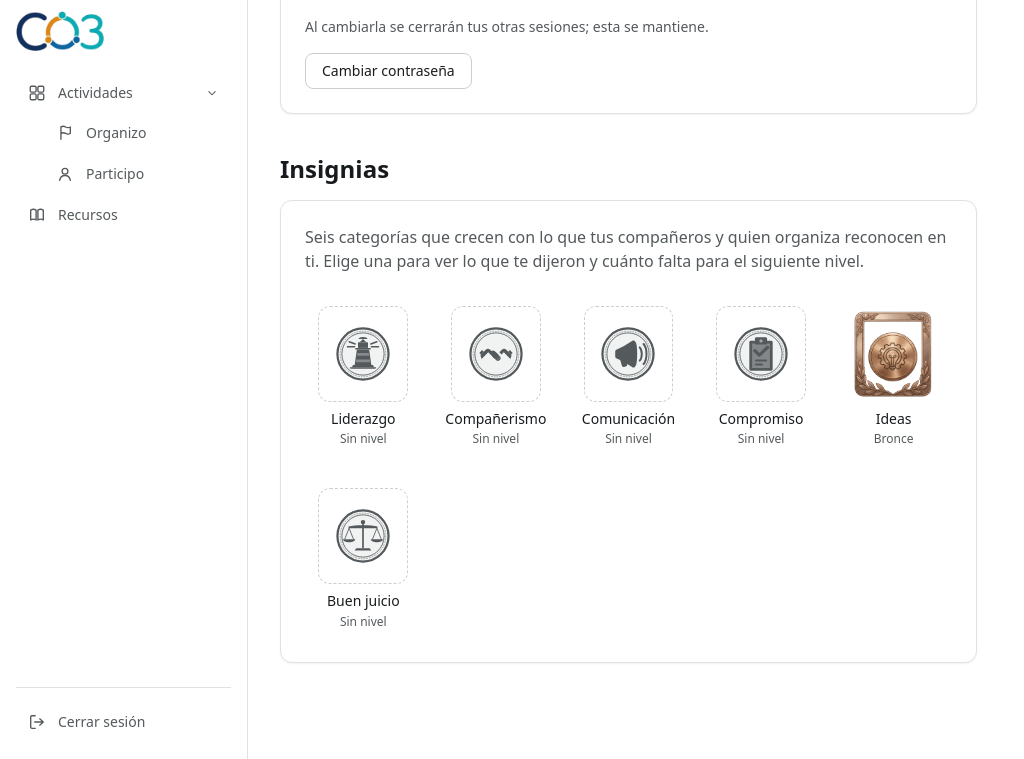
Test: PantallaPerfil › una insignia sin reconocimientos explica cómo se gana
(page scrolled)
Click the button with aria-label "Liderazgo, sin nivel todavía". click: (363, 376)
box: [310, 296, 417, 455]
(page scrolled)
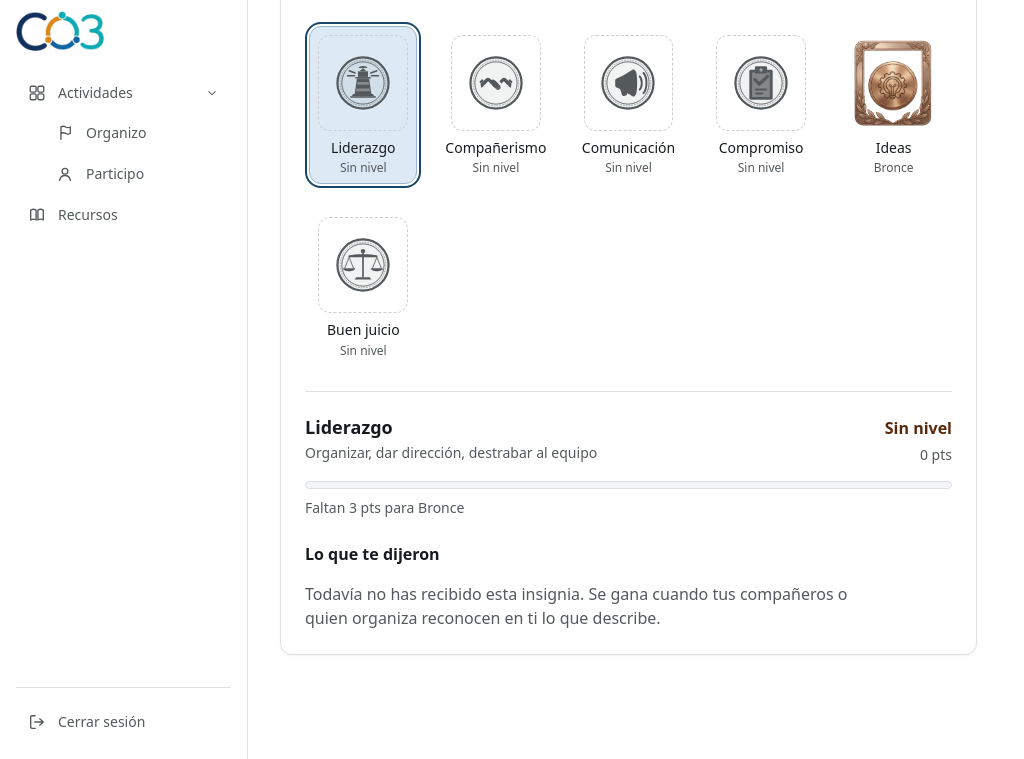
Expected: the text "Todavía no has recibido esta insignia" is shown, [305, 582, 848, 628]
Expected: the text "Faltan 3 pts para Bronce" is shown, [305, 498, 464, 516]
